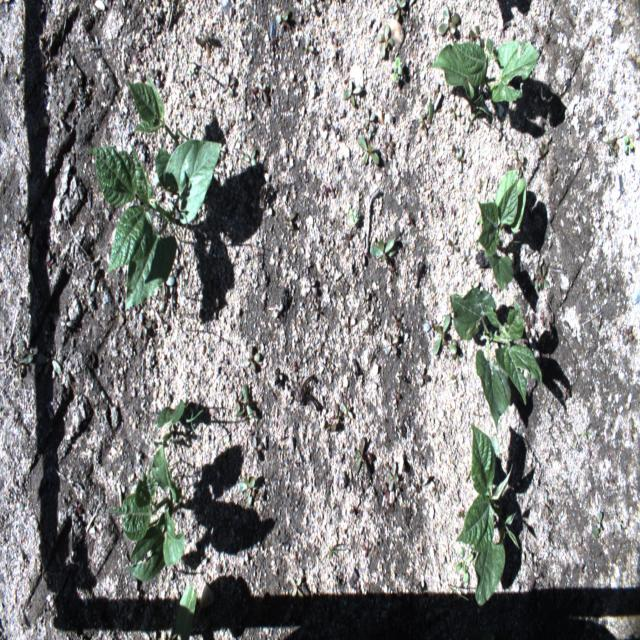crop: (83, 137, 222, 311), (449, 284, 544, 430), (110, 399, 186, 580), (456, 421, 519, 608), (125, 68, 187, 199), (429, 35, 540, 106), (477, 162, 527, 294)
weed: (172, 580, 198, 640), (182, 377, 203, 431), (433, 312, 458, 354), (12, 337, 32, 382), (352, 436, 372, 478), (234, 475, 258, 509), (153, 263, 175, 299), (194, 30, 222, 58), (371, 234, 397, 264), (455, 548, 474, 583), (357, 137, 380, 165), (376, 23, 394, 58), (36, 352, 62, 376), (234, 384, 252, 418), (342, 79, 362, 108), (429, 82, 442, 126), (439, 5, 458, 34), (242, 148, 258, 180), (471, 91, 491, 116), (243, 344, 261, 371), (469, 25, 486, 51), (535, 264, 550, 292), (289, 576, 304, 602), (221, 71, 236, 97), (387, 461, 399, 493), (388, 0, 408, 18), (362, 105, 375, 132), (322, 419, 338, 440), (415, 366, 431, 386), (626, 417, 637, 446), (538, 137, 550, 163), (384, 334, 398, 356), (340, 401, 355, 421), (359, 236, 369, 266), (445, 236, 460, 256), (464, 108, 476, 133), (592, 511, 603, 538), (393, 55, 403, 84), (452, 342, 465, 364), (526, 313, 536, 341), (449, 367, 461, 390), (543, 488, 552, 517), (431, 477, 441, 503), (608, 137, 620, 158), (257, 82, 268, 104), (332, 401, 342, 425), (457, 146, 465, 176), (282, 211, 296, 228), (273, 8, 291, 21), (254, 437, 263, 463), (385, 131, 394, 157), (449, 102, 460, 123), (54, 107, 64, 130), (391, 311, 403, 330), (514, 150, 526, 169), (360, 287, 369, 312), (624, 134, 634, 156), (419, 114, 428, 138), (549, 164, 558, 187), (233, 390, 243, 410), (624, 325, 634, 345), (348, 208, 359, 226), (390, 386, 401, 404), (362, 539, 372, 558), (304, 37, 314, 55), (343, 228, 353, 246), (306, 280, 318, 294), (533, 280, 542, 292)
